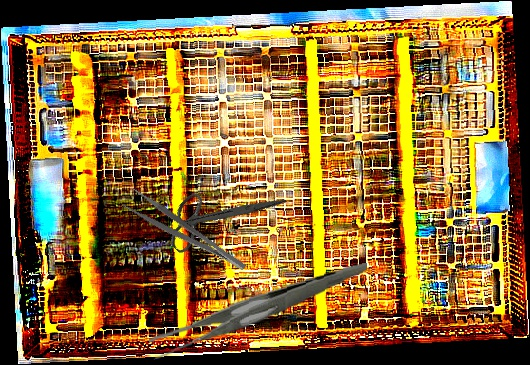Dressing Forceps: (145, 263, 372, 360), (121, 186, 249, 283)
Iris Scissors: (155, 149, 288, 283)
